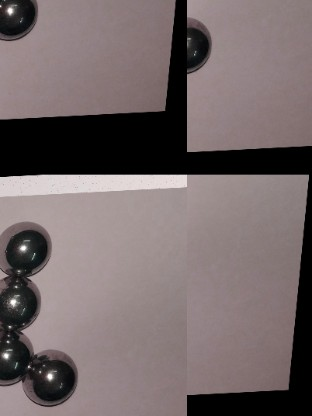ironball: (0, 174, 187, 199), (22, 343, 82, 412), (0, 214, 51, 279), (0, 270, 41, 334), (0, 321, 34, 392), (186, 13, 214, 79), (0, 0, 38, 41)
